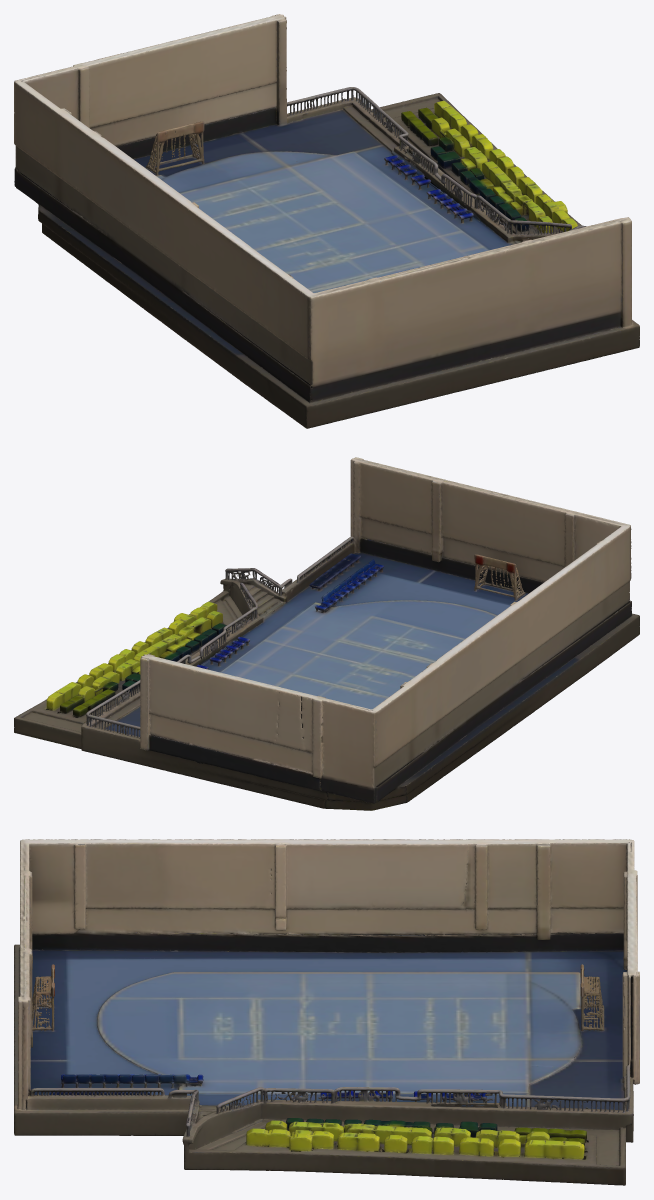
The model's file is city-club-2.glb.
The picture shows the model from 3 angles, top to bottom: view 1: azimuth 30°, elevation 25°; view 2: azimuth 150°, elevation 25°; view 3: azimuth 270°, elevation 25°; orthographic projection. The views are drawn at different scales.
Size of the model in its own units: 0.8195 by 0.2364 by 1.
1 material, 1 textured.
